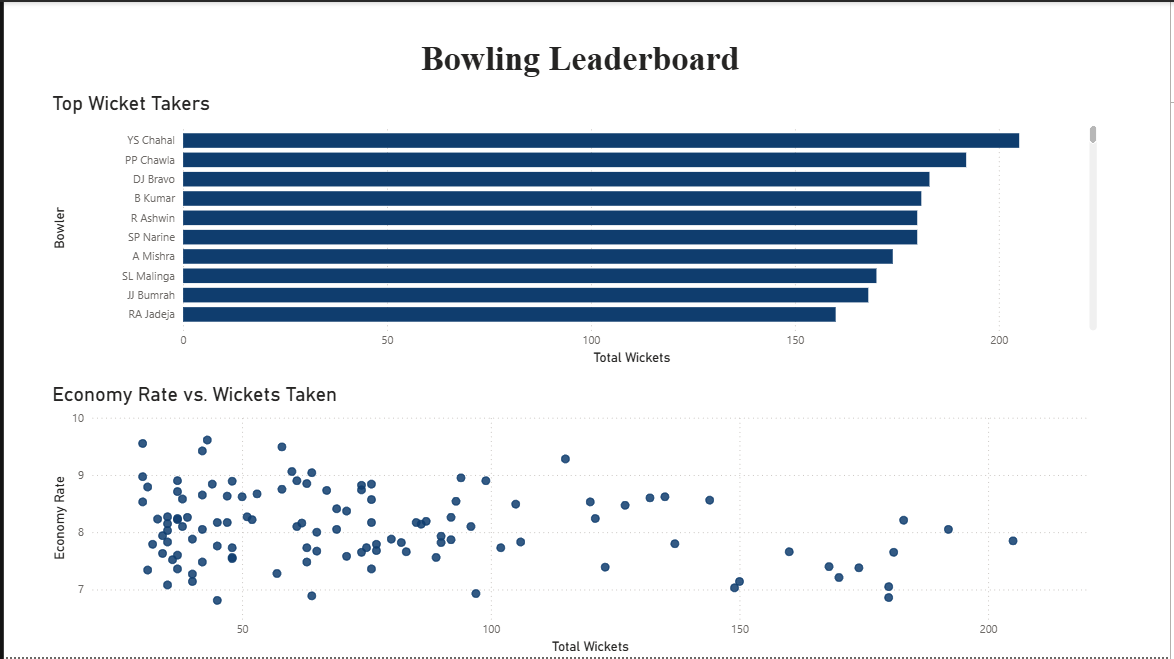

What the dashboard file says about the page in this screenshot:
{"tool":"powerbi","page":{"name":"Bowling Leaderboard","canvas":[1280,720],"ordinal":3},"visuals":[{"type":"clusteredBarChart","title":"Top Wicket Takers","fields":{"Category":["public bowling_leaderboard.bowler"],"Y":["Sum(public bowling_leaderboard.total_wickets)"]},"box":[48,98.8,1156.8,304.6],"z":0},{"type":"scatterChart","title":"Economy Rate vs. Wickets Taken","fields":{"X":["public bowling_leaderboard.total_wickets"],"Y":["public bowling_leaderboard.economy_rate"]},"box":[48,418.5,1156.8,301.9],"z":1000},{"type":"textbox","box":[452.8,35.7,371.9,63.1],"z":2000}]}

Visuals, with their boxes in screenshot pixels (x1, y1, x2, y2), scaled from the page's 1280x720 canvas onto the 1174x659 screenshot:
"Top Wicket Takers" clusteredBarChart: rect(44, 90, 1105, 369)
"Economy Rate vs. Wickets Taken" scatterChart: rect(44, 383, 1105, 658)
textbox: rect(415, 33, 756, 90)
